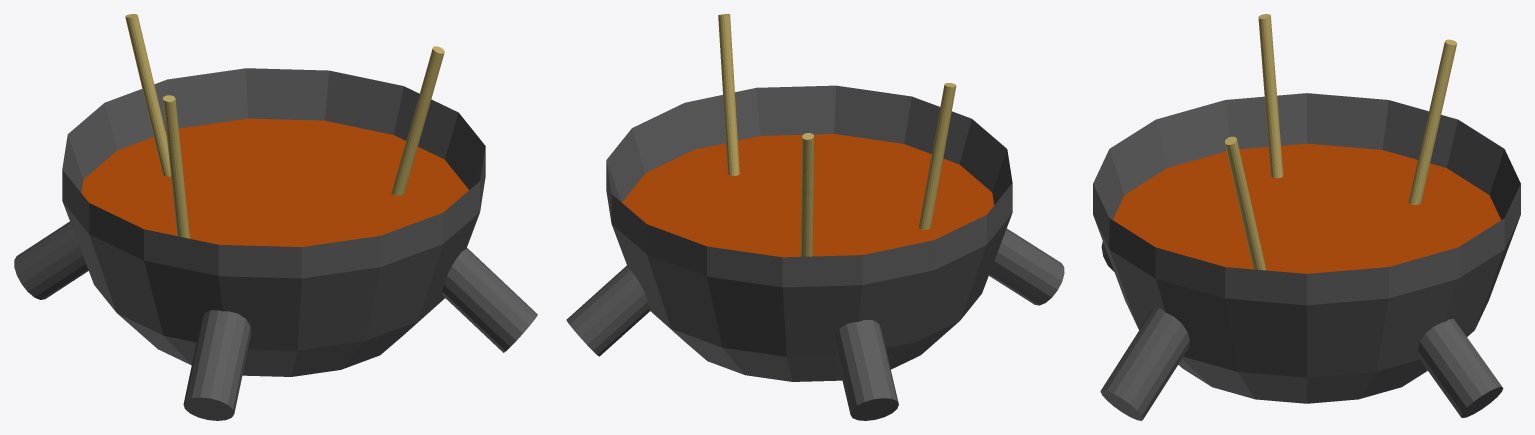
File: torre-fondue.dae
3 views of the same model, side by side, from view 1: azimuth 30°, elevation 25°; view 2: azimuth 150°, elevation 25°; view 3: azimuth 270°, elevation 25° (orthographic). The views are drawn at different scales.
Visible parts, largest first — view 1: Cylinder; view 2: Cylinder; view 3: Cylinder.
Boxes of the visible parts, x1,y1,x2,y2 form: Cylinder: (14, 14, 537, 420); Cylinder: (566, 14, 1064, 420); Cylinder: (1093, 14, 1520, 420).
Bounding box in the file's own units: 3.19 × 3.19 × 2.23.
